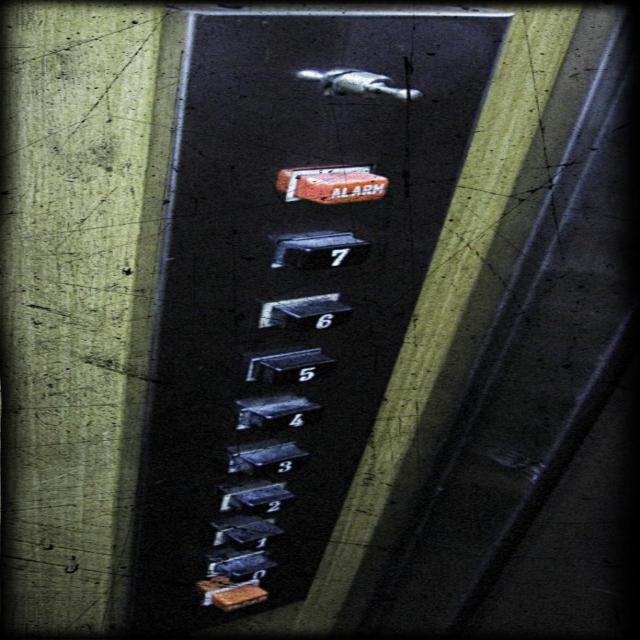0: (207, 553, 275, 581)
1: (211, 520, 282, 552)
2: (215, 482, 295, 516)
3: (225, 442, 312, 478)
4: (235, 398, 318, 432)
5: (246, 346, 343, 387)
6: (261, 294, 357, 336)
7: (269, 232, 368, 274)
switch: (308, 61, 425, 108)
text_ALARM: (276, 163, 394, 207)
text_blur: (203, 581, 267, 611)
